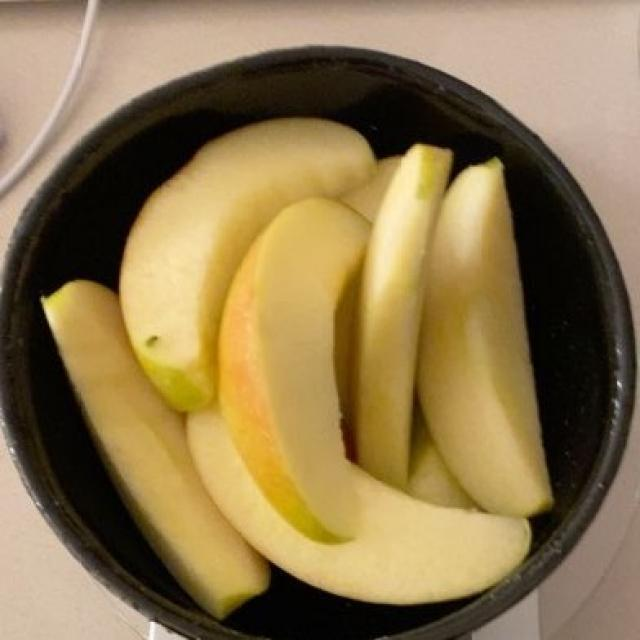apple: (38, 121, 534, 615)
